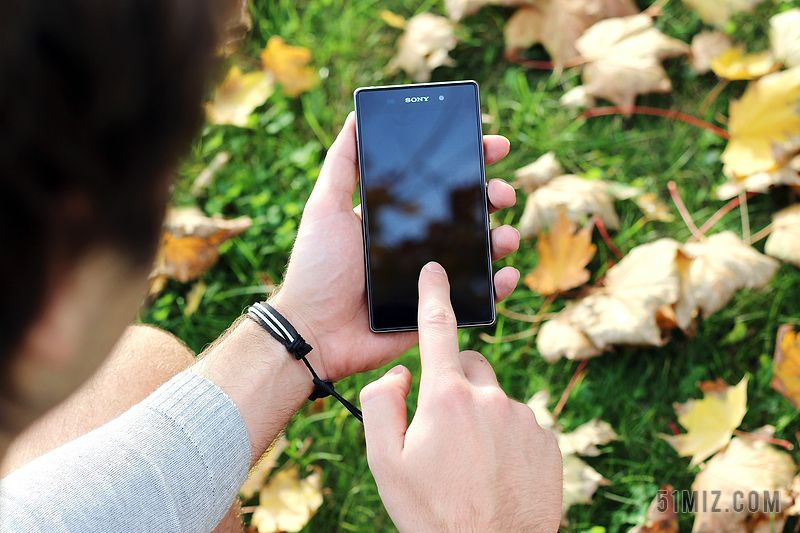reading: (277, 74, 568, 533)
